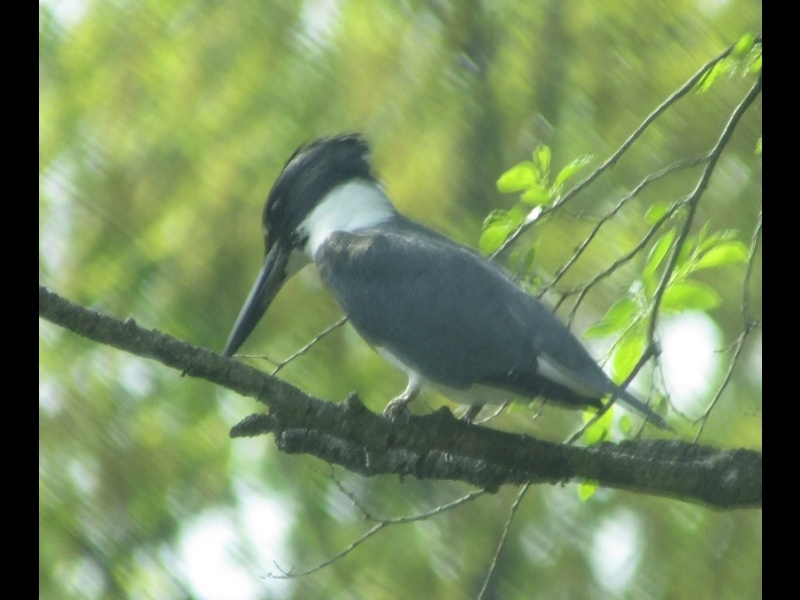kingfisher: (222, 132, 676, 441)
